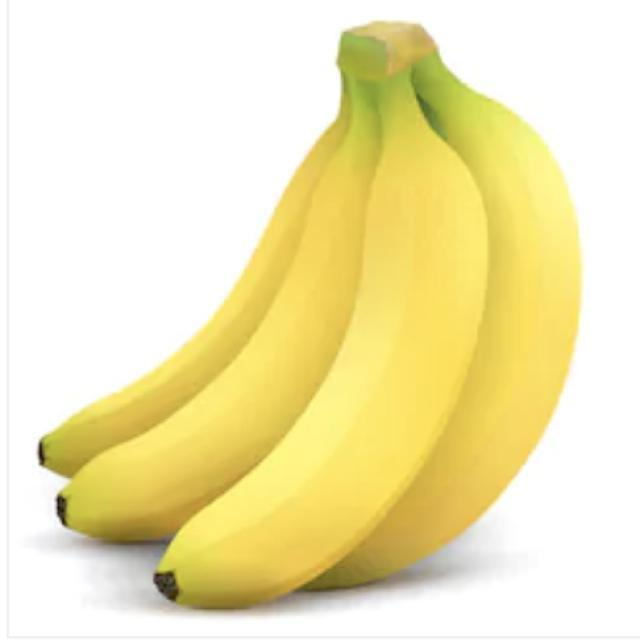Banana: (37, 31, 585, 605)
